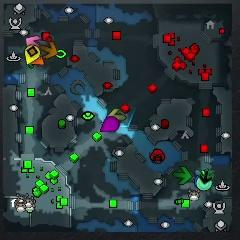p1: (194, 175, 199, 185)
p2: (197, 178, 212, 191)
p3: (101, 116, 119, 132)
p4: (24, 45, 40, 64)
p5: (31, 56, 44, 65)
x1: (26, 36, 40, 47)
x2: (108, 108, 125, 121)
x3: (195, 169, 201, 176)
x4: (174, 166, 191, 184)
x4Clone: (200, 169, 213, 183)
x5: (42, 41, 57, 59)
